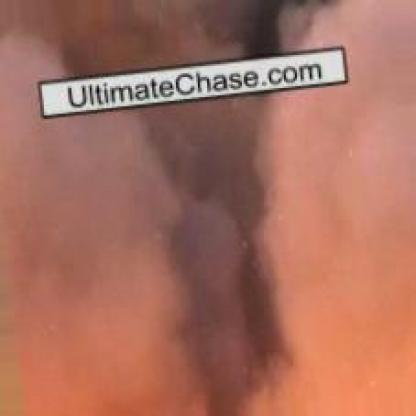smoke: (12, 2, 393, 396)
